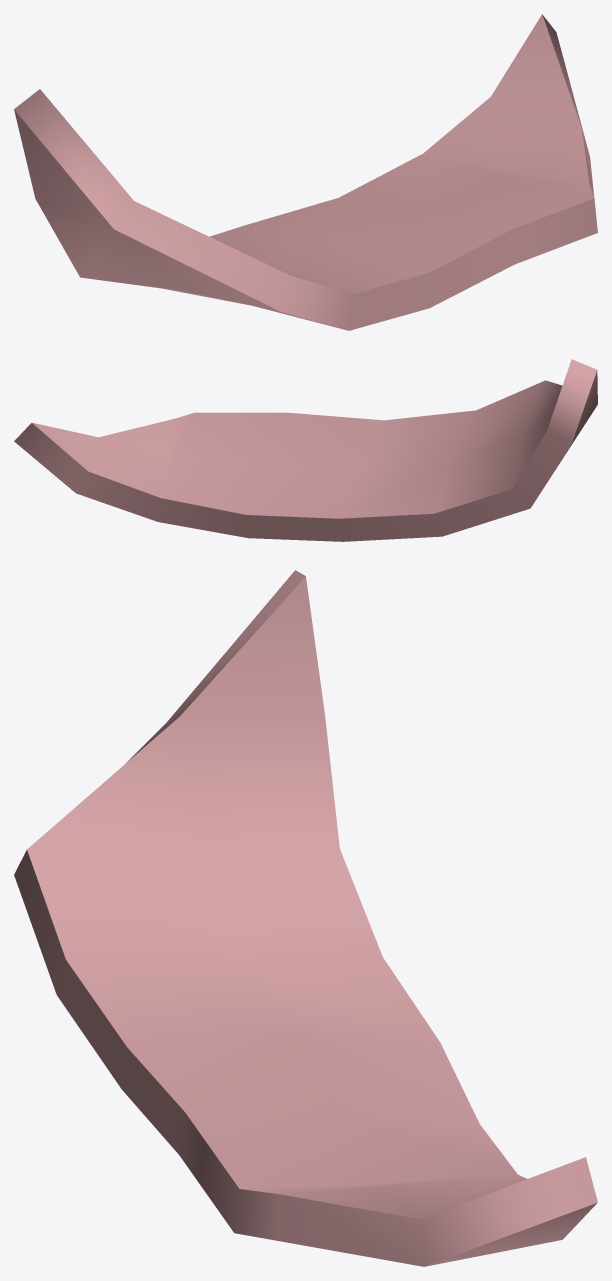
3 renders of one model, top to bottom at view 1: azimuth 30°, elevation 25°; view 2: azimuth 150°, elevation 25°; view 3: azimuth 270°, elevation 25°, orthographic. The views are drawn at different scales.
Parts seen in each view (by area): view 1: ZA_a97d81dc4400142e; view 2: ZA_a97d81dc4400142e; view 3: ZA_a97d81dc4400142e.
Boxes of the visible parts, box(x1,y1,x2,y2) form: ZA_a97d81dc4400142e: box(14, 14, 597, 330); ZA_a97d81dc4400142e: box(14, 359, 597, 541); ZA_a97d81dc4400142e: box(14, 570, 597, 1266).
Size of the model in its own units: 0.0611 by 0.0249 by 0.0364.
